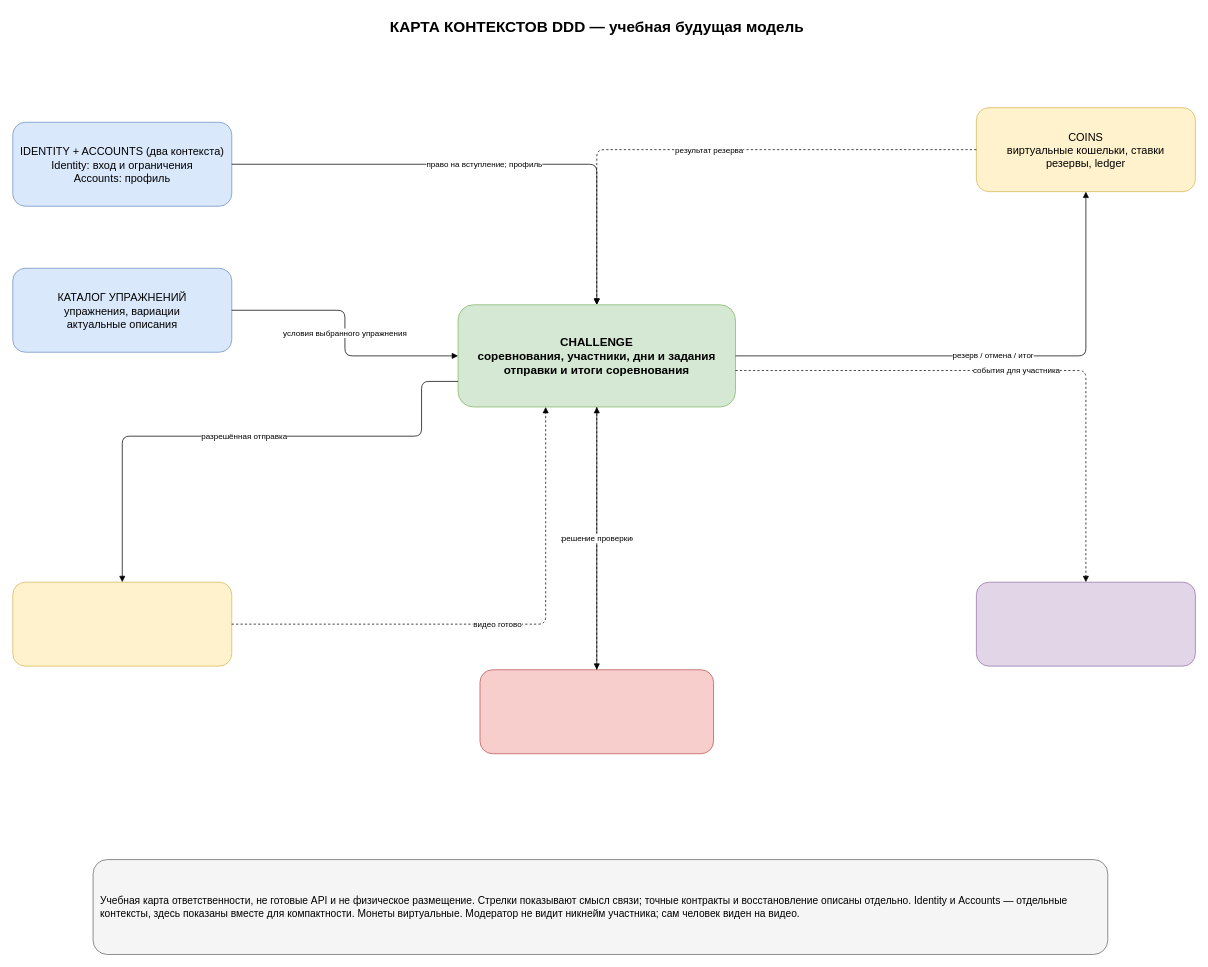
The diagram is 1208 pixels wide and 967 high, and some of its shapes have lost their labels. The shapes that lost their labels are listed below. From the top down, each one's box as (x1, y1, x2, y2) in pixels, then its label:
(12, 581, 232, 666): VIDEO PROOF приём, проверка целостности подготовка видео
(976, 581, 1195, 666): NOTIFICATIONS история уведомлений, настройки попытки доставки
(479, 669, 714, 754): MODERATION карточки Review и решения проверка человеком
